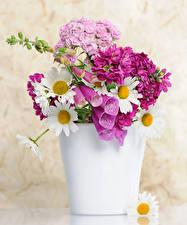chamomile: (46, 99, 82, 134), (40, 70, 78, 99), (109, 82, 143, 111), (133, 192, 160, 217), (135, 108, 159, 134)
